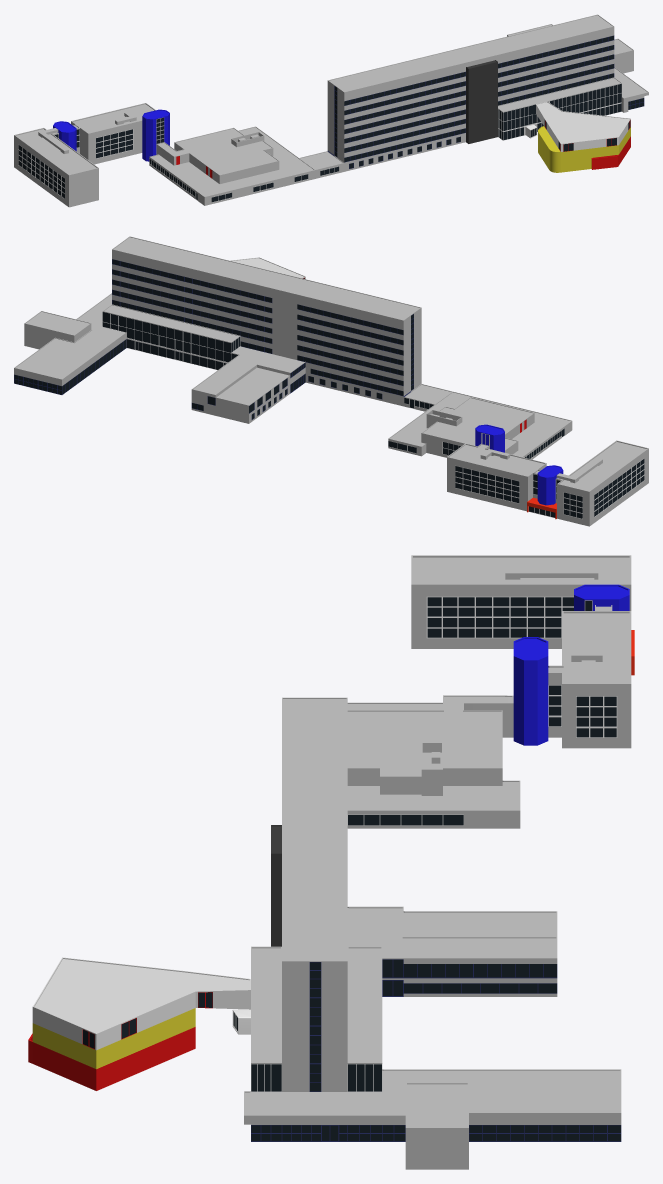
Rendered from Duisenberg_&_Mercator.fbx.
The picture shows the model from 3 angles, top to bottom: view 1: azimuth 30°, elevation 25°; view 2: azimuth 150°, elevation 25°; view 3: azimuth 270°, elevation 25°; orthographic projection. The views are drawn at different scales.
Visible parts, largest first — view 1: Box001; view 2: Box001; view 3: Box001.
Part boxes in pixels (left/top/right/bottom): Box001: left=14, top=14, right=648, bottom=207; Box001: left=14, top=236, right=648, bottom=526; Box001: left=28, top=555, right=634, bottom=1169.
Size of the model in its own units: 1479 by 199 by 689.
